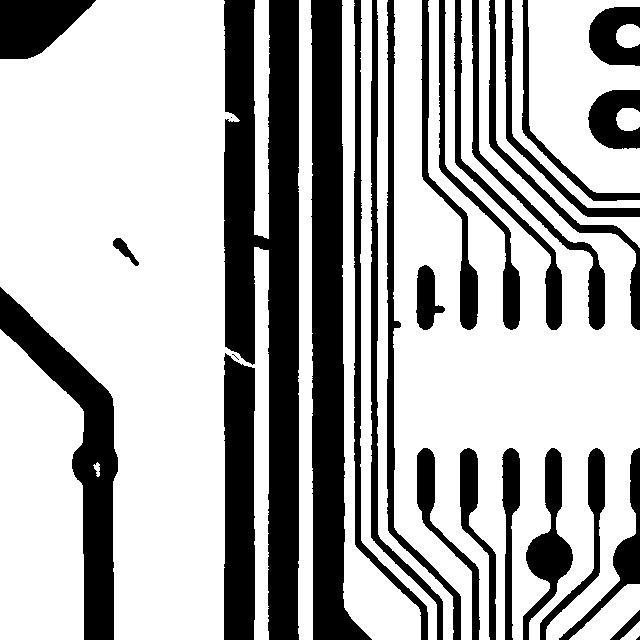copper: (103, 228, 148, 275)
mousebite: (210, 101, 249, 131)
open: (210, 334, 266, 377)
pin-hole: (83, 452, 109, 486)
short: (236, 225, 281, 259)
spur: (421, 295, 454, 322), (380, 310, 410, 337)
